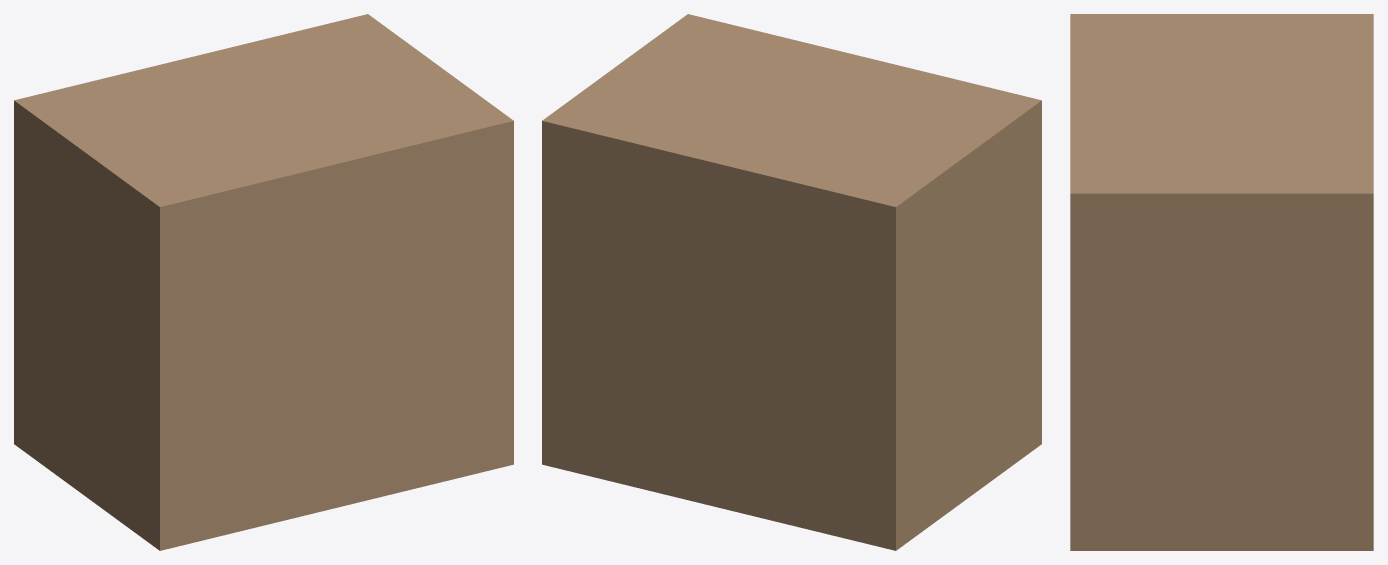
Rendered from trap_tower.glb.
3 views of the same model, side by side, from view 1: azimuth 30°, elevation 25°; view 2: azimuth 150°, elevation 25°; view 3: azimuth 270°, elevation 25° (orthographic). The views are drawn at different scales.
Parts seen in each view (by area): view 1: traphigh, traplow, trapmid; view 2: traphigh, traplow, trapmid; view 3: traphigh, traplow, trapmid.
Part boxes in pixels (bbox=[...]): traphigh: bbox=[14, 14, 513, 365]; traplow: bbox=[14, 286, 513, 550]; trapmid: bbox=[14, 200, 513, 458]; traphigh: bbox=[542, 14, 1041, 365]; traplow: bbox=[542, 286, 1041, 550]; trapmid: bbox=[542, 209, 1041, 458]; traphigh: bbox=[1070, 14, 1373, 358]; traplow: bbox=[1070, 386, 1373, 550]; trapmid: bbox=[1070, 290, 1373, 454].
Size of the model in its own units: 1.4 by 1.3 by 1.
